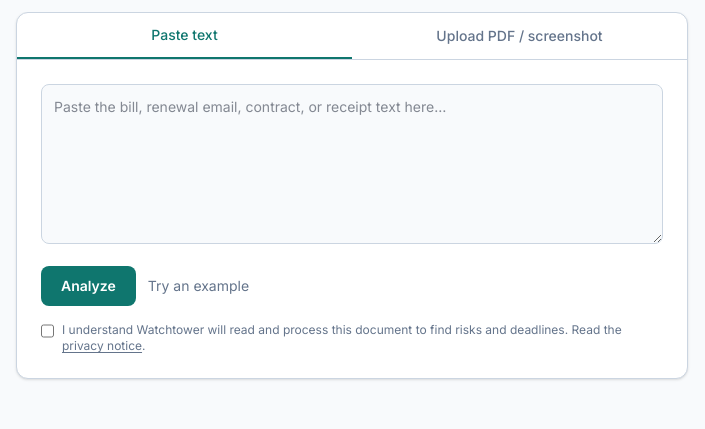
Test: InputZone › validates empty paste
The width and height of the screenshot is (705, 429).
Click the button with test id "analyze-button" at (88, 286), box top-left (41, 266), bottom-right (136, 306)
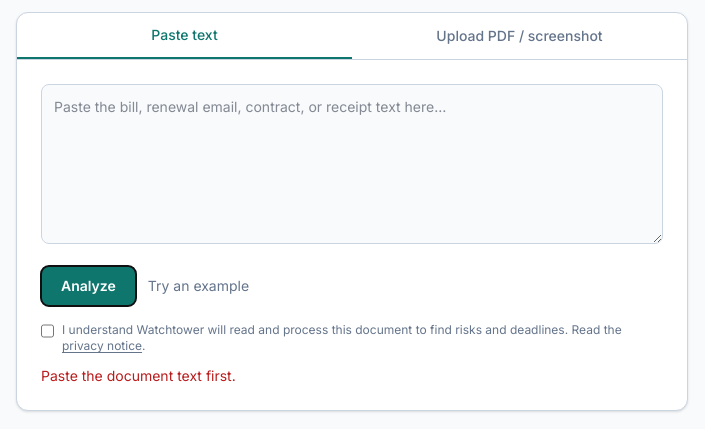
Result: the text with test id "error-message" reads "Paste the document text first." at top-left (41, 367), bottom-right (236, 384)
